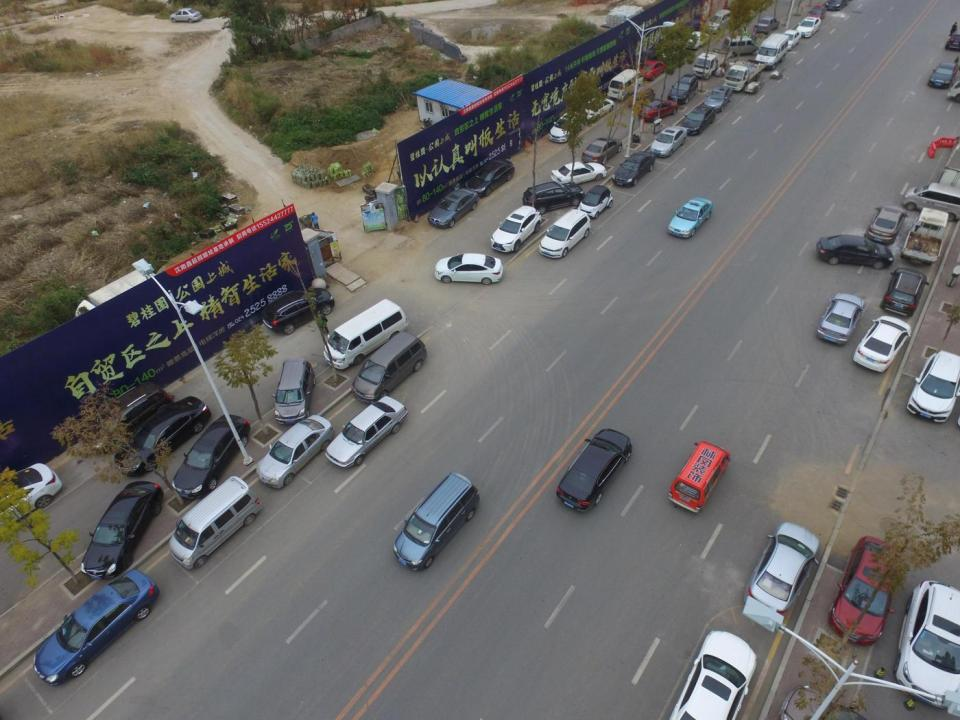car: (34, 570, 159, 688), (668, 631, 763, 720), (832, 535, 906, 648), (895, 578, 960, 704), (79, 481, 162, 579), (115, 397, 210, 476), (746, 520, 819, 616), (173, 415, 250, 501), (556, 430, 636, 511), (256, 414, 334, 490), (326, 398, 407, 471), (93, 382, 171, 457), (0, 462, 65, 538), (904, 350, 960, 424), (261, 286, 336, 334), (856, 314, 913, 374), (780, 684, 870, 720), (814, 232, 894, 270), (540, 208, 592, 260), (816, 292, 865, 346), (490, 206, 541, 253), (879, 268, 927, 316), (435, 253, 503, 284), (466, 158, 516, 199), (428, 190, 480, 228), (665, 196, 711, 236), (524, 183, 583, 214), (865, 204, 904, 249), (550, 159, 605, 190), (610, 150, 655, 186), (547, 106, 582, 144), (575, 186, 613, 220), (649, 126, 688, 158), (681, 103, 716, 138), (583, 136, 620, 166), (638, 97, 677, 123), (668, 74, 699, 106), (927, 60, 958, 88), (582, 97, 614, 124), (702, 87, 732, 114), (626, 86, 656, 111), (637, 58, 665, 81), (795, 17, 821, 39), (684, 29, 709, 51), (169, 8, 203, 23), (780, 30, 801, 52), (756, 15, 780, 34), (806, 5, 826, 22), (945, 30, 960, 52), (827, 0, 848, 12)
truck: (902, 208, 949, 264), (725, 57, 766, 91), (694, 49, 728, 79)
van: (167, 476, 260, 571), (394, 474, 482, 572), (322, 301, 407, 369), (351, 331, 427, 405), (666, 444, 732, 512), (274, 359, 316, 425), (902, 182, 960, 221), (756, 32, 789, 70), (607, 70, 642, 103), (721, 34, 757, 58), (703, 10, 734, 34)
